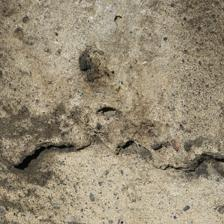Crack: (8, 51, 213, 126)
